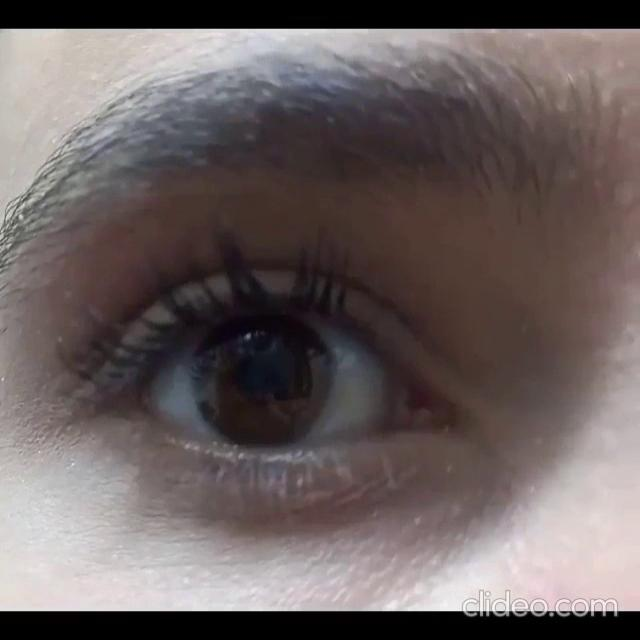iris: (194, 314, 333, 447)
pupille: (237, 352, 291, 399)
